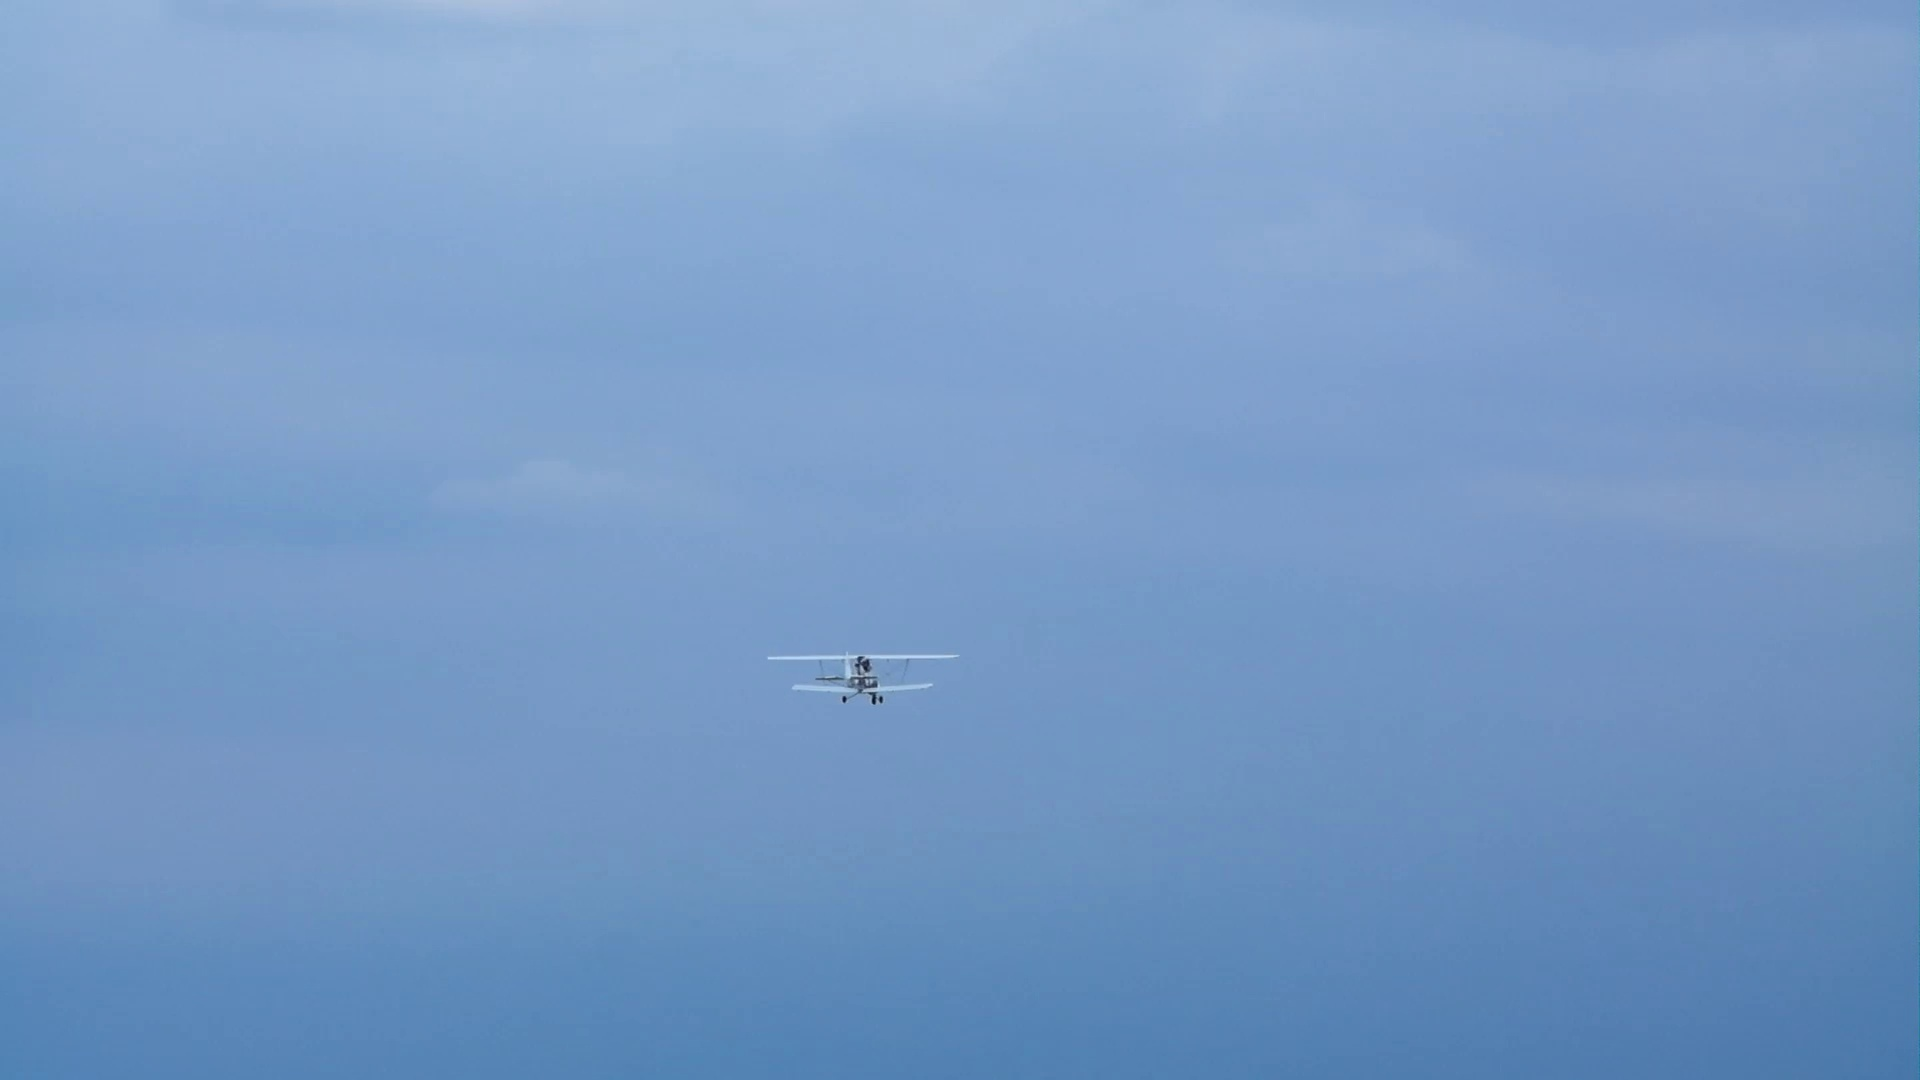plane: (764, 649, 957, 705)
